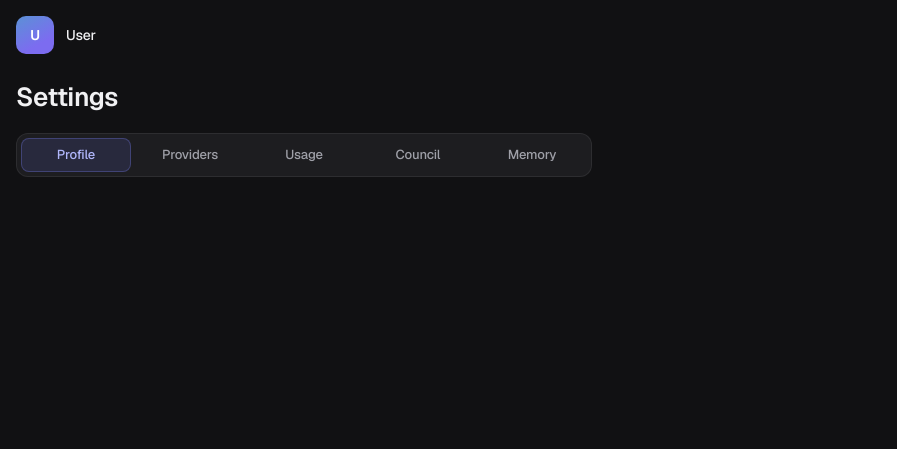
Test: SettingsPage — Council tab › shows the configured members as chips when the council config is manual
This screenshot has width=897, height=449.
Click the tab "Council" at (418, 155), box [363, 138, 473, 172]
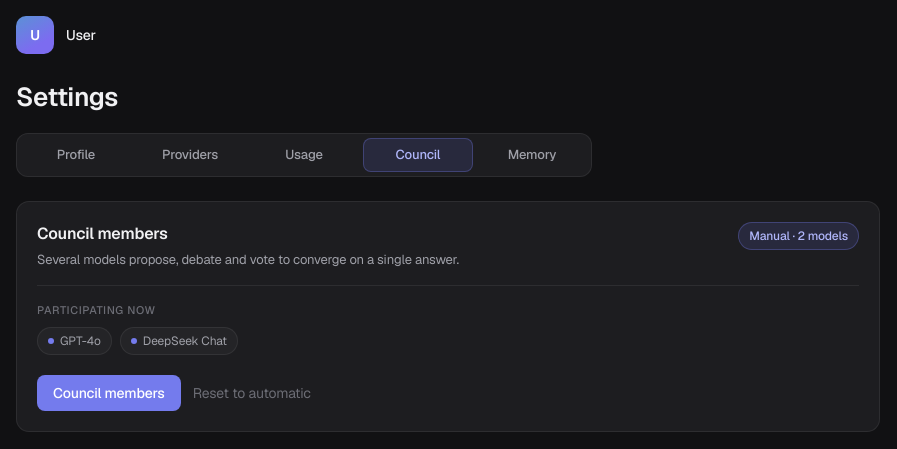
Expected: the text "Participating now" is shown, [37, 303, 156, 317]
Expected: the text "GPT-4o" is shown, [37, 326, 112, 354]
Expected: the text "DeepSeek Chat" is shown, [120, 326, 238, 354]
